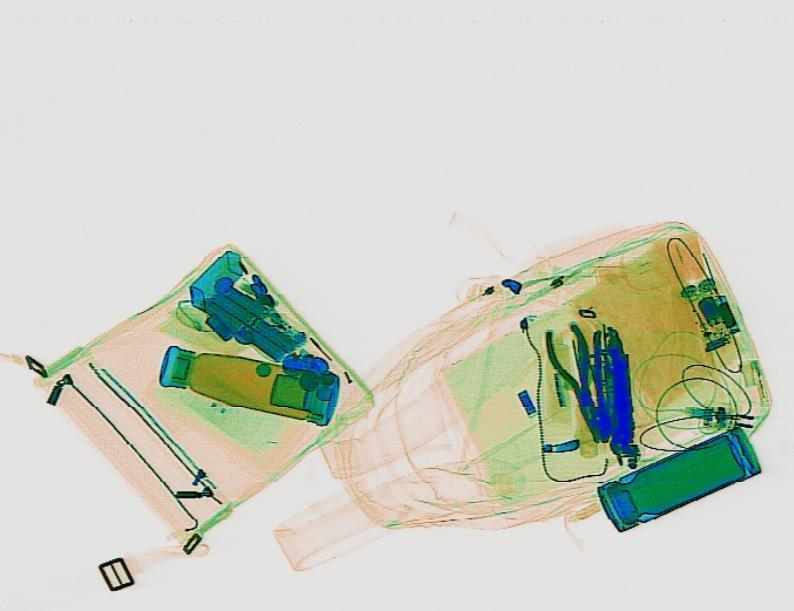Pliers: (539, 320, 619, 441)
